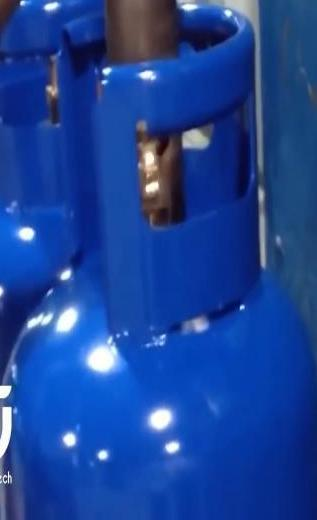cylinder: (1, 1, 317, 520)
